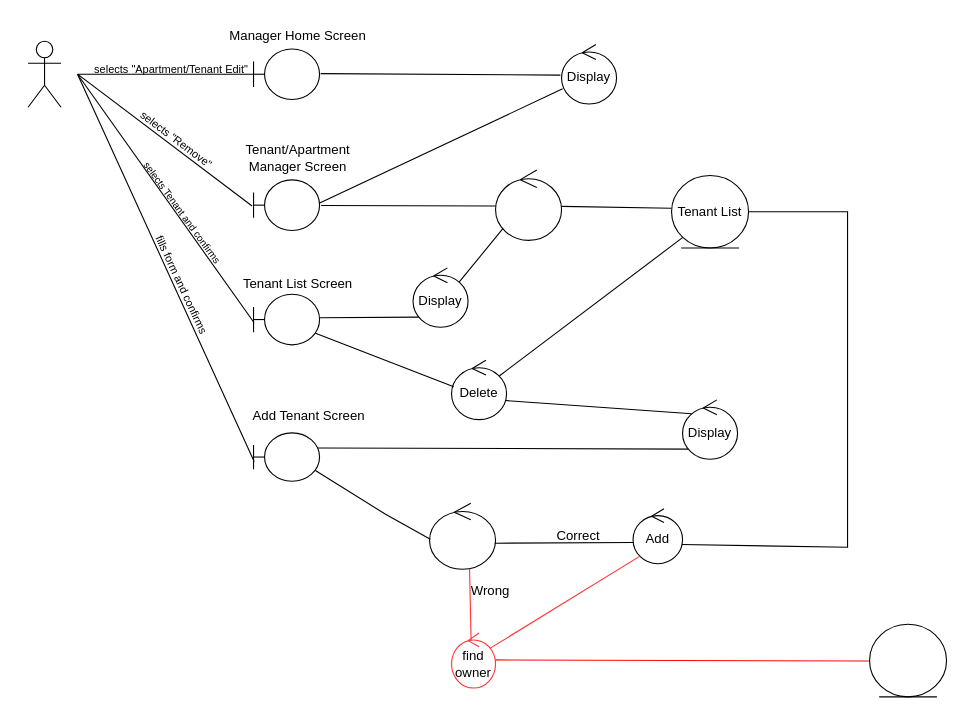
The diagram is 966 pixels wide and 716 high, and some of its shapes have lost their labels. Here are the shapes that lost their labels. From the top down, the centre of each, then its label:
At point 44,73: "Manager".
At point 528,204: "Load".
At point 462,535: "Information Check".
At point 907,660: "Apartment List".
